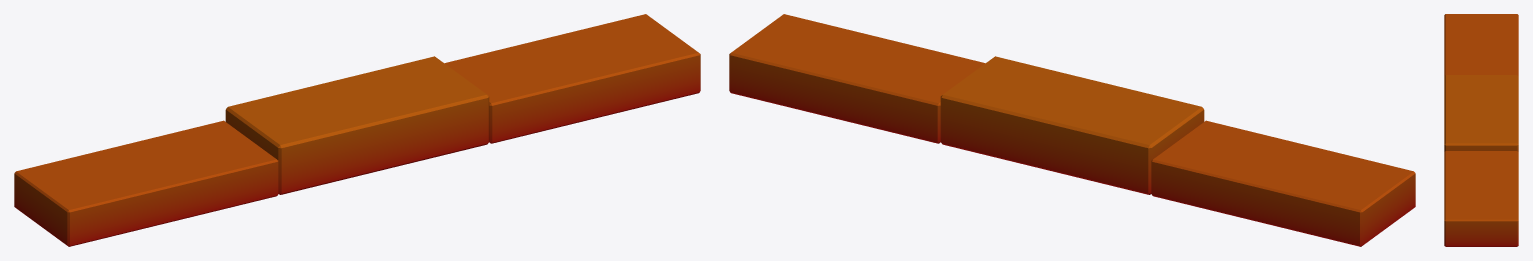
The model's file is lintel_broken.glb.
3 views of the same model, side by side, from view 1: azimuth 30°, elevation 25°; view 2: azimuth 150°, elevation 25°; view 3: azimuth 270°, elevation 25° (orthographic). The views are drawn at different scales.
Parts seen in each view (by area): view 1: lintel_broken; view 2: lintel_broken; view 3: lintel_broken.
Boxes of the visible parts, box(x1,y1,x2,y2) form: lintel_broken: box(14, 14, 700, 246); lintel_broken: box(729, 14, 1415, 246); lintel_broken: box(1444, 14, 1518, 246).
Size of what is drawn, in the model's own units: 4 by 0.3016 by 0.6.
